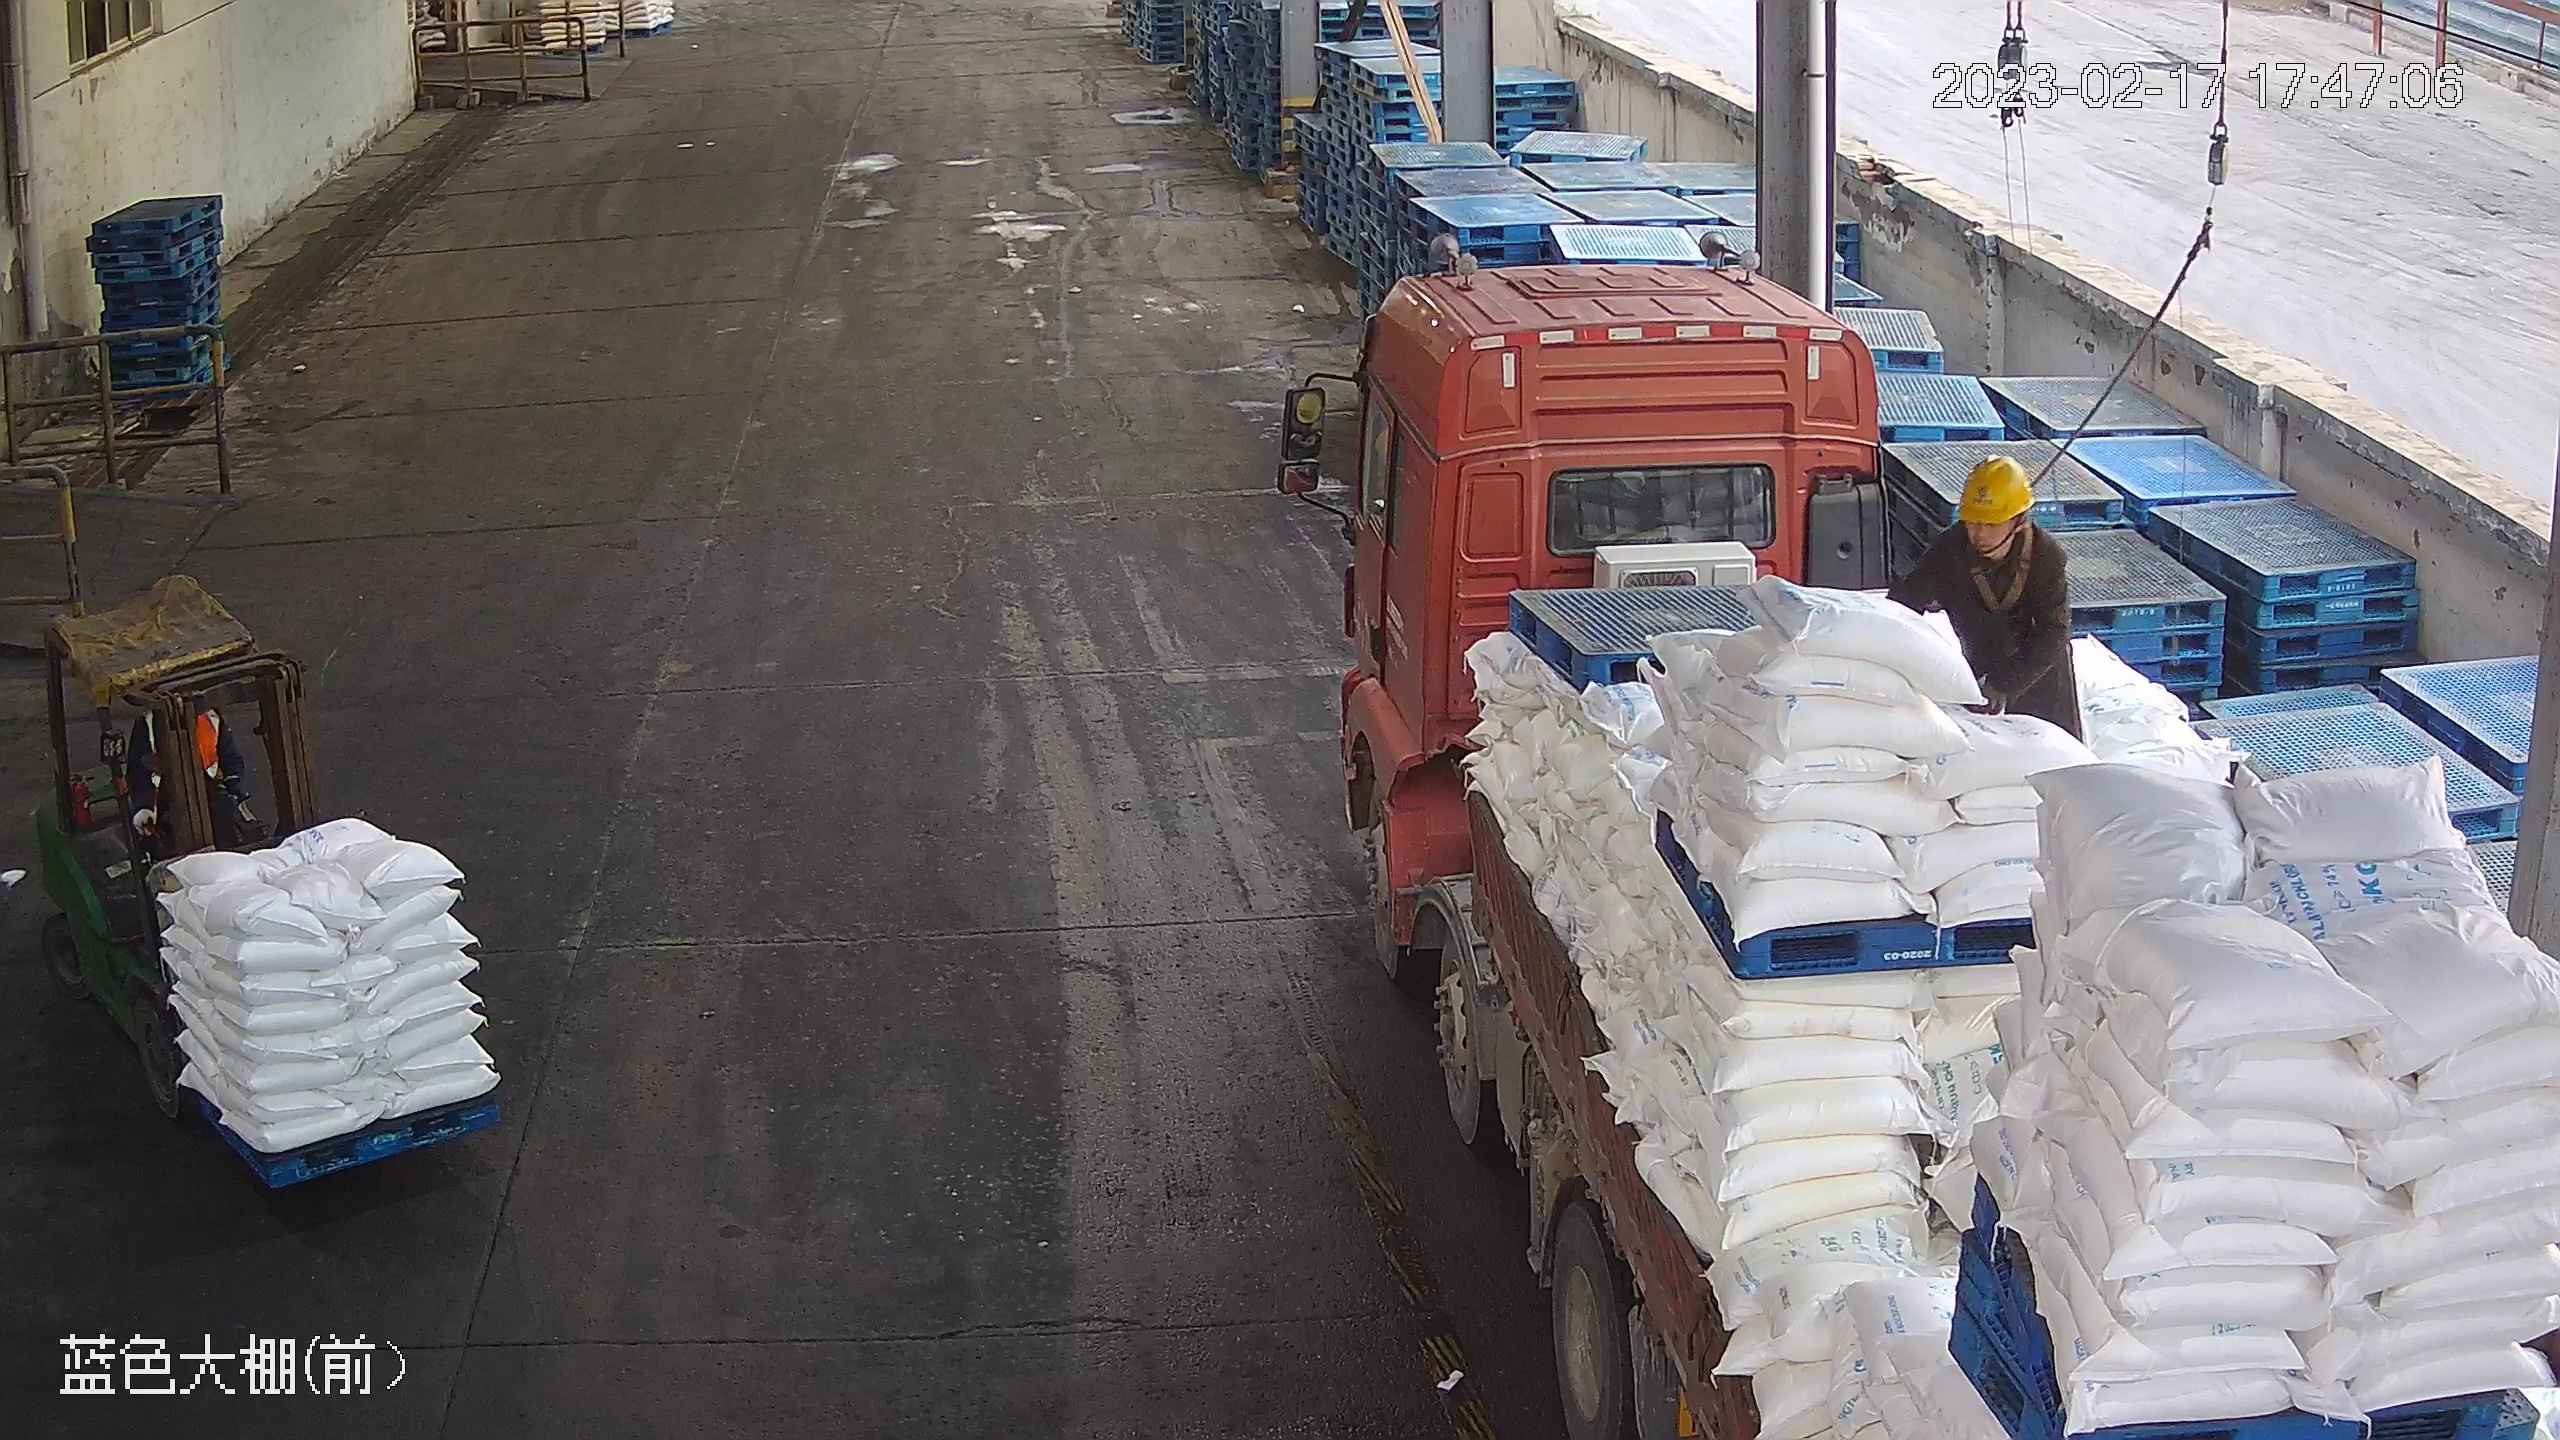belt: (1962, 534, 2046, 612)
head: (1924, 453, 2070, 584)
helmet: (1956, 452, 2036, 526)
people: (1888, 452, 2090, 756)
truck: (1276, 248, 2560, 1440)
